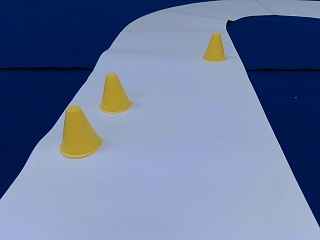cone: (60, 106, 103, 157), (98, 73, 132, 112), (202, 33, 225, 61)
